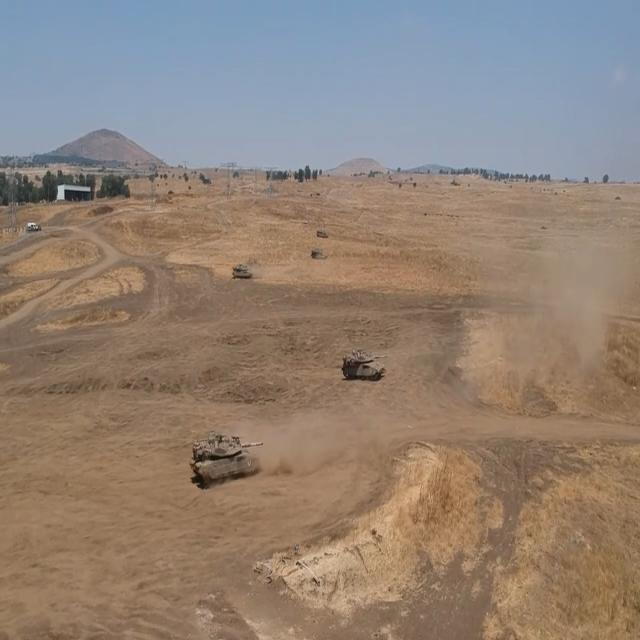tank: (187, 426, 273, 492), (340, 346, 397, 388), (230, 258, 256, 284), (310, 238, 324, 262), (316, 224, 327, 238)
